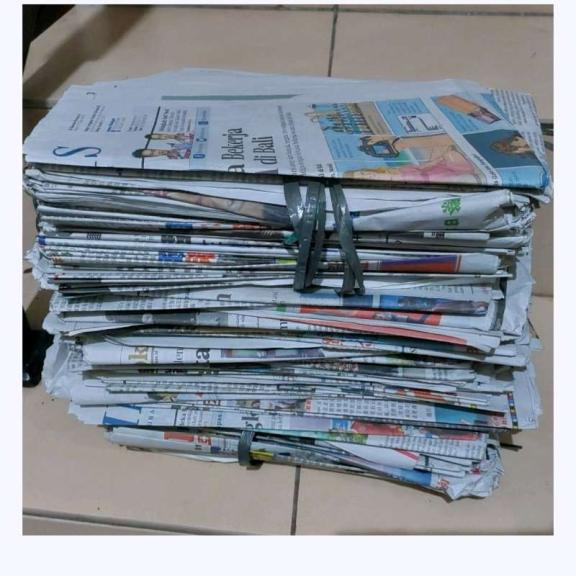Kertas: (16, 62, 576, 214)
